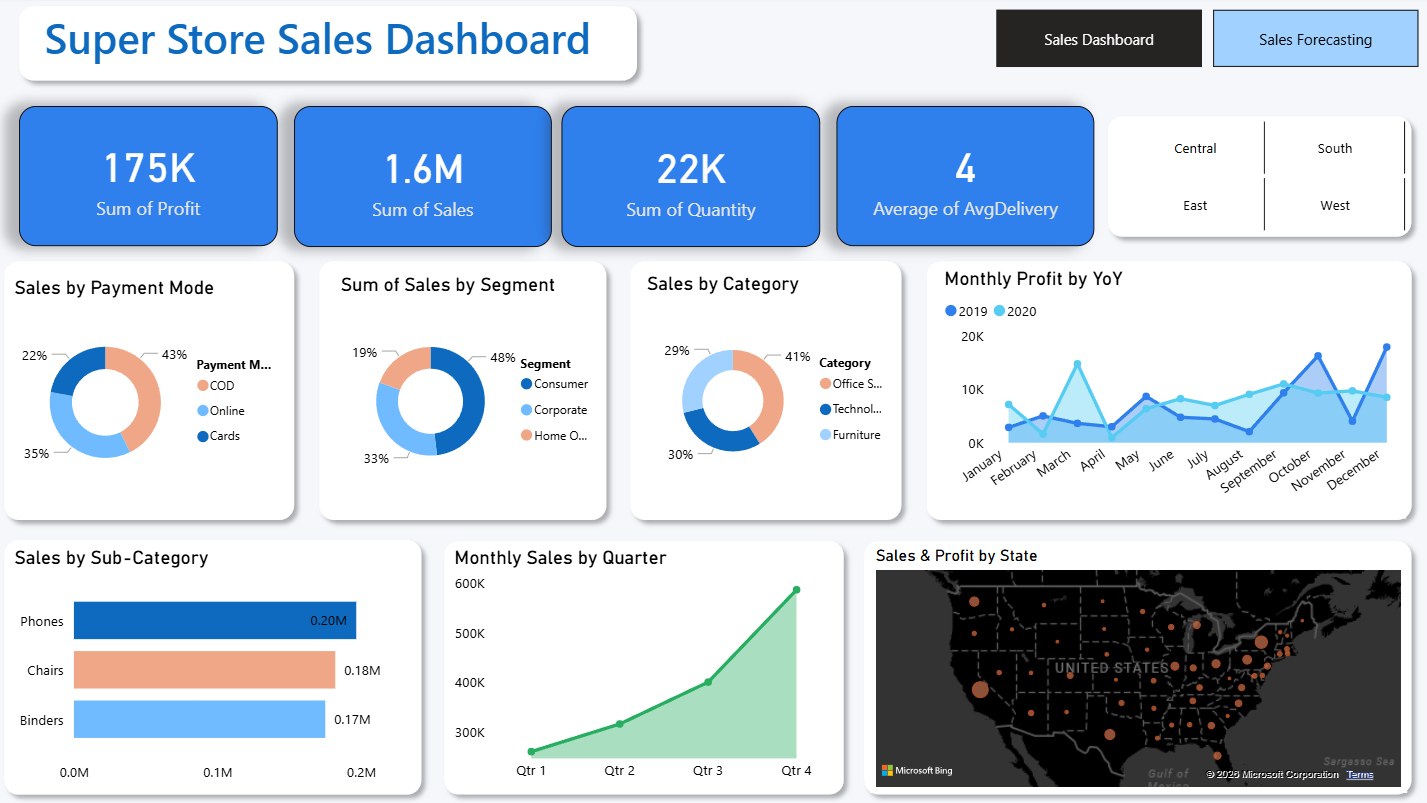

The dashboard page shown, as its layout file describes it:
{"tool":"powerbi","page":{"name":"Sales Dashboard","canvas":[1280,720],"ordinal":0},"visuals":[{"type":"shape","box":[821.6,226.8,450,248.5],"z":0},{"type":"shape","box":[0,475.1,389.7,244.9],"z":1000},{"type":"shape","box":[392.1,476.5,374,243.7],"z":2000},{"type":"shape","box":[13.8,0,568.2,84.3],"z":2500},{"type":"clusteredBarChart","title":"Sales by Sub-Category","fields":{"Y":["Sum(SuperStore_Sales_Dataset.Sales)"],"Category":["SuperStore_Sales_Dataset.Sub-Category"]},"box":[13.3,489.8,359.5,219.6],"z":3000},{"type":"areaChart","title":"Monthly Sales by Quarter","fields":{"Y":["Sum(SuperStore_Sales_Dataset.Sales)"],"Category":["SuperStore_Sales_Dataset.Order Date.Variation.Date Hierarchy.Quarter"]},"box":[405.4,489.8,346.2,218.4],"z":4000},{"type":"shape","box":[766.1,476.5,505.5,243.7],"z":5000},{"type":"textbox","box":[40.1,6.9,536.4,60.8],"z":5500},{"type":"areaChart","title":"Monthly Profit by YoY","fields":{"Y":["Sum(SuperStore_Sales_Dataset.Profit)"],"Category":["SuperStore_Sales_Dataset.Order Date.Variation.Date Hierarchy.Month"],"Series":["SuperStore_Sales_Dataset.Order Date.Variation.Date Hierarchy.Year"]},"box":[842.1,241.3,416.2,224.4],"z":6000},{"type":"shape","box":[280.3,226.8,273.9,248.5],"z":7000},{"type":"map","title":"Sales & Profit by State","fields":{"Category":["SuperStore_Sales_Dataset.State"],"Size":["Sum(SuperStore_Sales_Dataset.Sales)"]},"box":[780.6,489.8,477.8,219.6],"z":8000},{"type":"donutChart","fields":{"Category":["SuperStore_Sales_Dataset.Segment"],"Y":["Sum(SuperStore_Sales_Dataset.Sales)"]},"box":[304,247.3,240.1,208.7],"z":9000},{"type":"shape","box":[983.2,97.7,288.3,125.5],"z":10000},{"type":"shape","box":[0,226.8,276.3,248.5],"z":11000},{"type":"donutChart","title":"Sales by Payment Mode","fields":{"Y":["Sum(SuperStore_Sales_Dataset.Sales)"],"Category":["SuperStore_Sales_Dataset.Payment Mode"]},"box":[13.3,249.7,244.9,206.3],"z":12000},{"type":"slicer","fields":{"Values":["SuperStore_Sales_Dataset.Region"]},"box":[983,105.1,297.3,110.6],"z":14000},{"type":"card","title":"Sales","fields":{"Values":["Sum(SuperStore_Sales_Dataset.Sales)"]},"box":[266.6,97.7,229.2,125.5],"z":15000},{"type":"card","title":"Quantity","fields":{"Values":["Sum(SuperStore_Sales_Dataset.Quantity)"]},"box":[505.5,97.7,230.4,125.5],"z":16000},{"type":"card","title":"Profit","fields":{"Values":["Sum(SuperStore_Sales_Dataset.Profit)"]},"box":[21.7,97.7,230,125],"z":17000},{"type":"card","title":"Average Ship Time","fields":{"Values":["Avg(SuperStore_Sales_Dataset.AvgDelivery)"]},"box":[750.7,98.2,229.5,124.4],"z":18000},{"type":"shape","box":[558.2,226.8,259.4,248.5],"z":19000},{"type":"donutChart","title":"Sales by Category","fields":{"Y":["Sum(SuperStore_Sales_Dataset.Sales)"],"Category":["SuperStore_Sales_Dataset.Category"]},"box":[576.7,246.1,229.2,209.9],"z":20000},{"type":"pageNavigator","box":[893.2,12.4,377,51],"z":21000}]}

Visuals, with their boxes in screenshot pixels (x1, y1, x2, y2), scaled from the page's 1280x720 canvas onto the 1427x803 screenshot:
shape: 916 253 1418 530
shape: 0 530 434 802
shape: 437 531 854 802
shape: 15 0 649 94
"Sales by Sub-Category" clusteredBarChart: 15 546 416 791
"Monthly Sales by Quarter" areaChart: 452 546 838 790
shape: 854 531 1418 802
textbox: 45 8 643 76
"Monthly Profit by YoY" areaChart: 939 269 1403 519
shape: 312 253 618 530
"Sales & Profit by State" map: 870 546 1403 791
donutChart - SuperStore_Sales_Dataset.Segment x Sum(SuperStore_Sales_Dataset.Sales): 339 276 607 509
shape: 1096 109 1418 249
shape: 0 253 308 530
"Sales by Payment Mode" donutChart: 15 278 288 509
slicer - SuperStore_Sales_Dataset.Region: 1096 117 1426 241
"Sales" card: 297 109 553 249
"Quantity" card: 564 109 820 249
"Profit" card: 24 109 281 248
"Average Ship Time" card: 837 110 1093 248
shape: 622 253 911 530
"Sales by Category" donutChart: 643 274 898 509
pageNavigator: 996 14 1416 71
